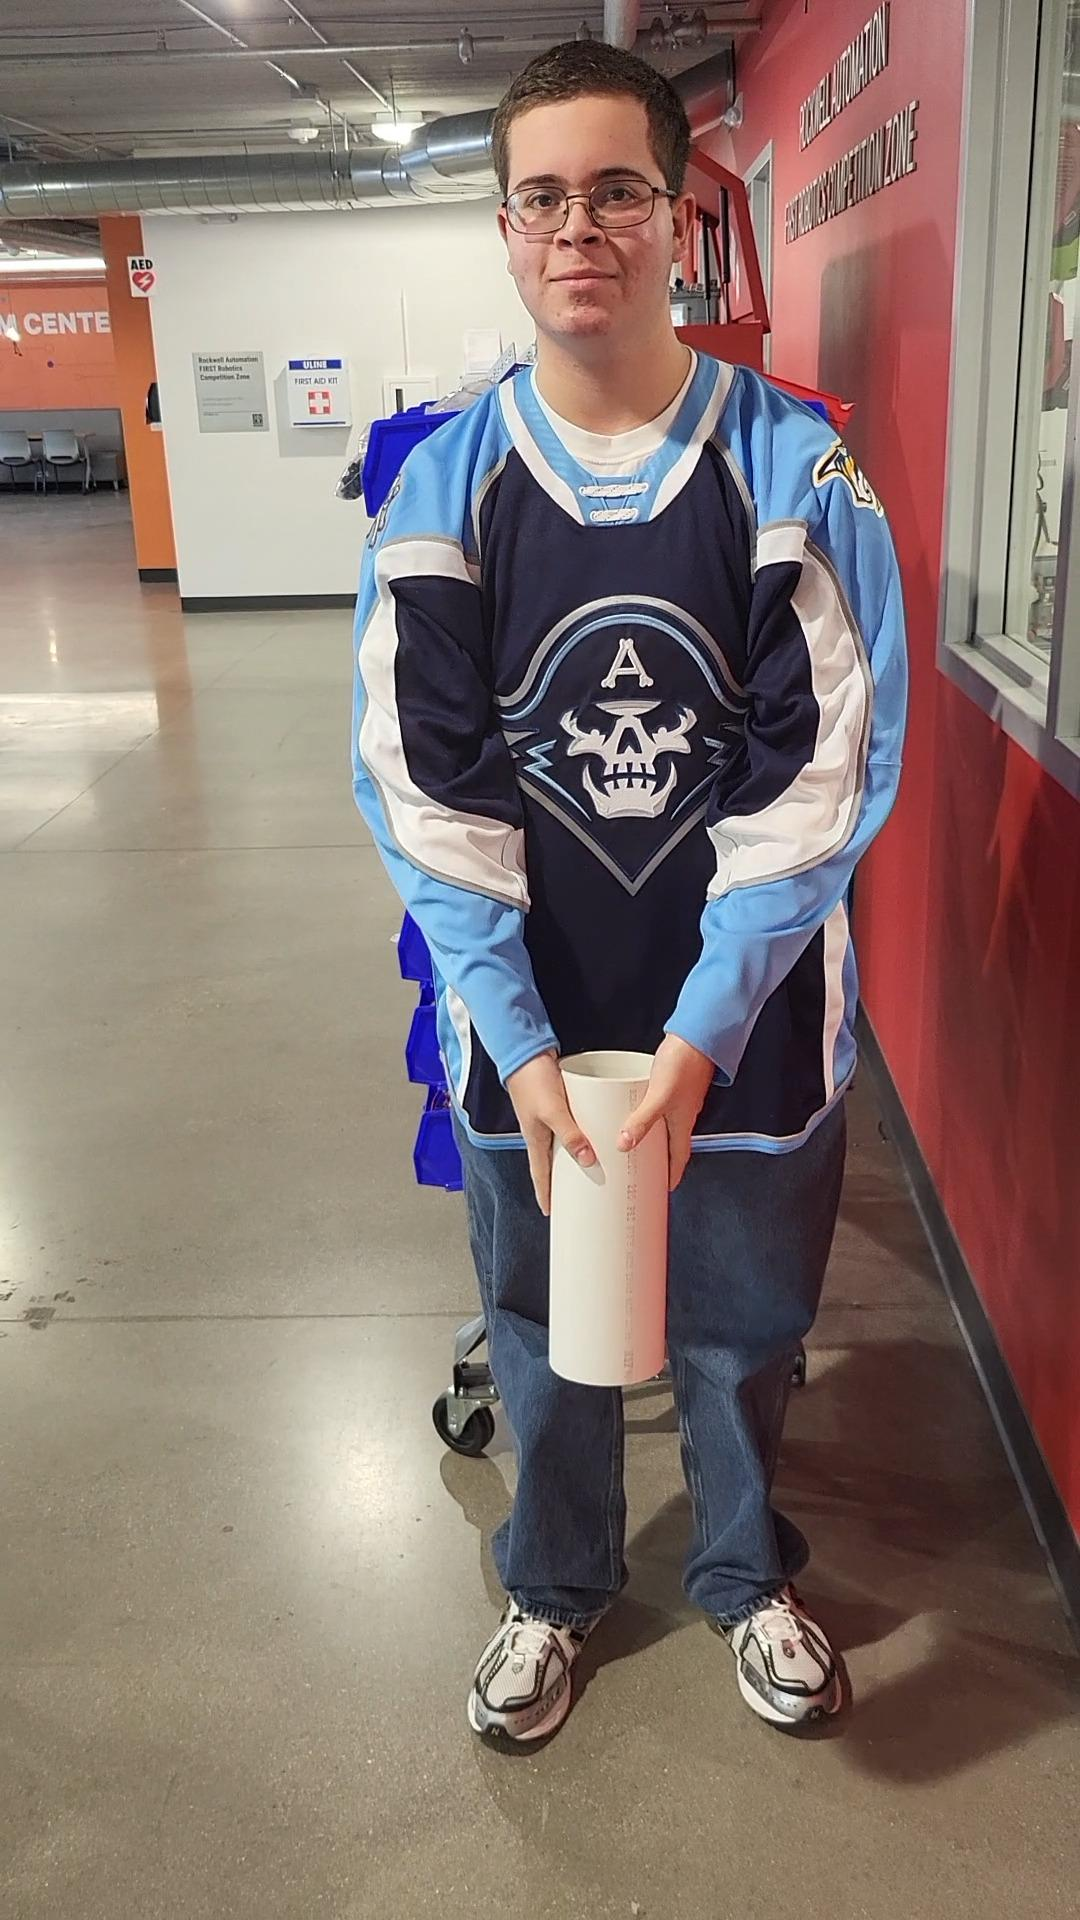coral: (543, 1038, 680, 1394)
